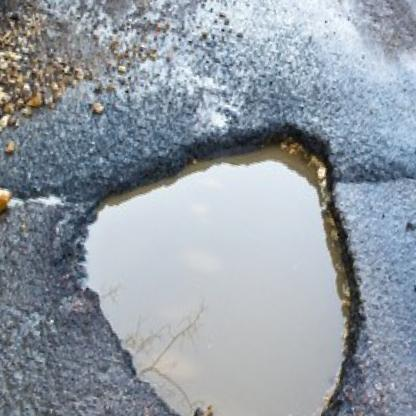pothole: (58, 104, 394, 416)
